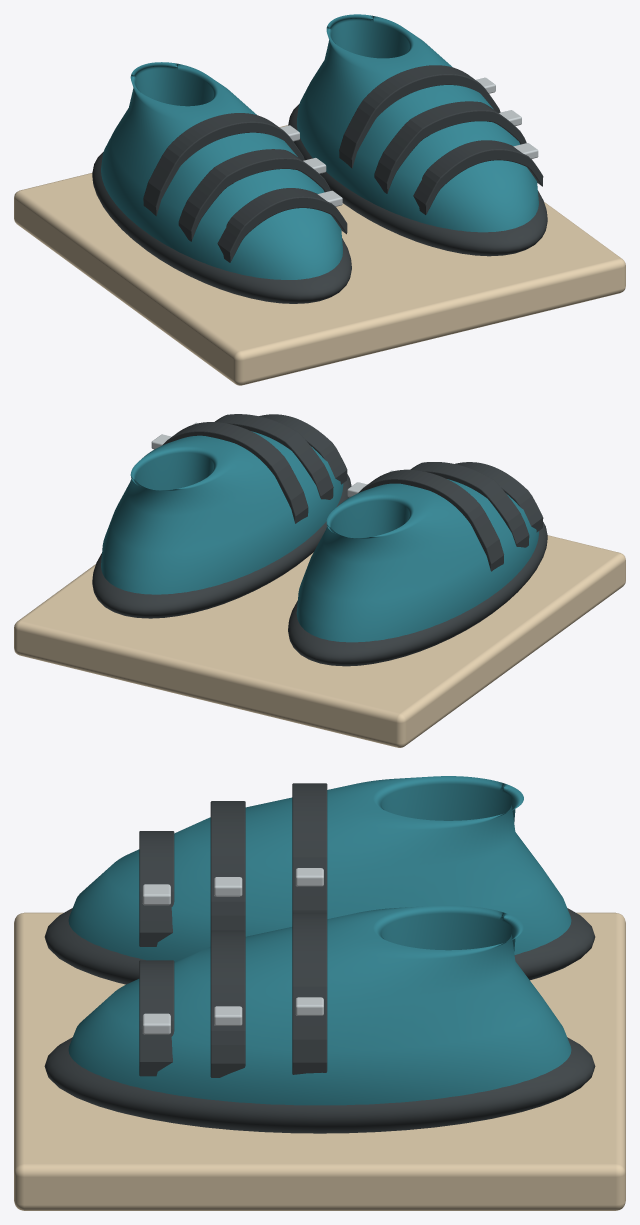
Rendered from bicycle-shop-and-repair-cafe-cycling-shoe-display-cbc29dda__32424.glb.
3 views of the same model, one above another, from view 1: azimuth 30°, elevation 25°; view 2: azimuth 150°, elevation 25°; view 3: azimuth 270°, elevation 25° (orthographic). The views are drawn at different scales.
Parts seen in each view (by area): view 1: cycling-shoe-display; view 2: cycling-shoe-display; view 3: cycling-shoe-display.
Part boxes in pixels (x1,y1,x2,y2): cycling-shoe-display: (14,14,625,385); cycling-shoe-display: (14,414,625,747); cycling-shoe-display: (14,776,625,1210).
Size of the model in its own units: 0.3 by 0.1213 by 0.3.
